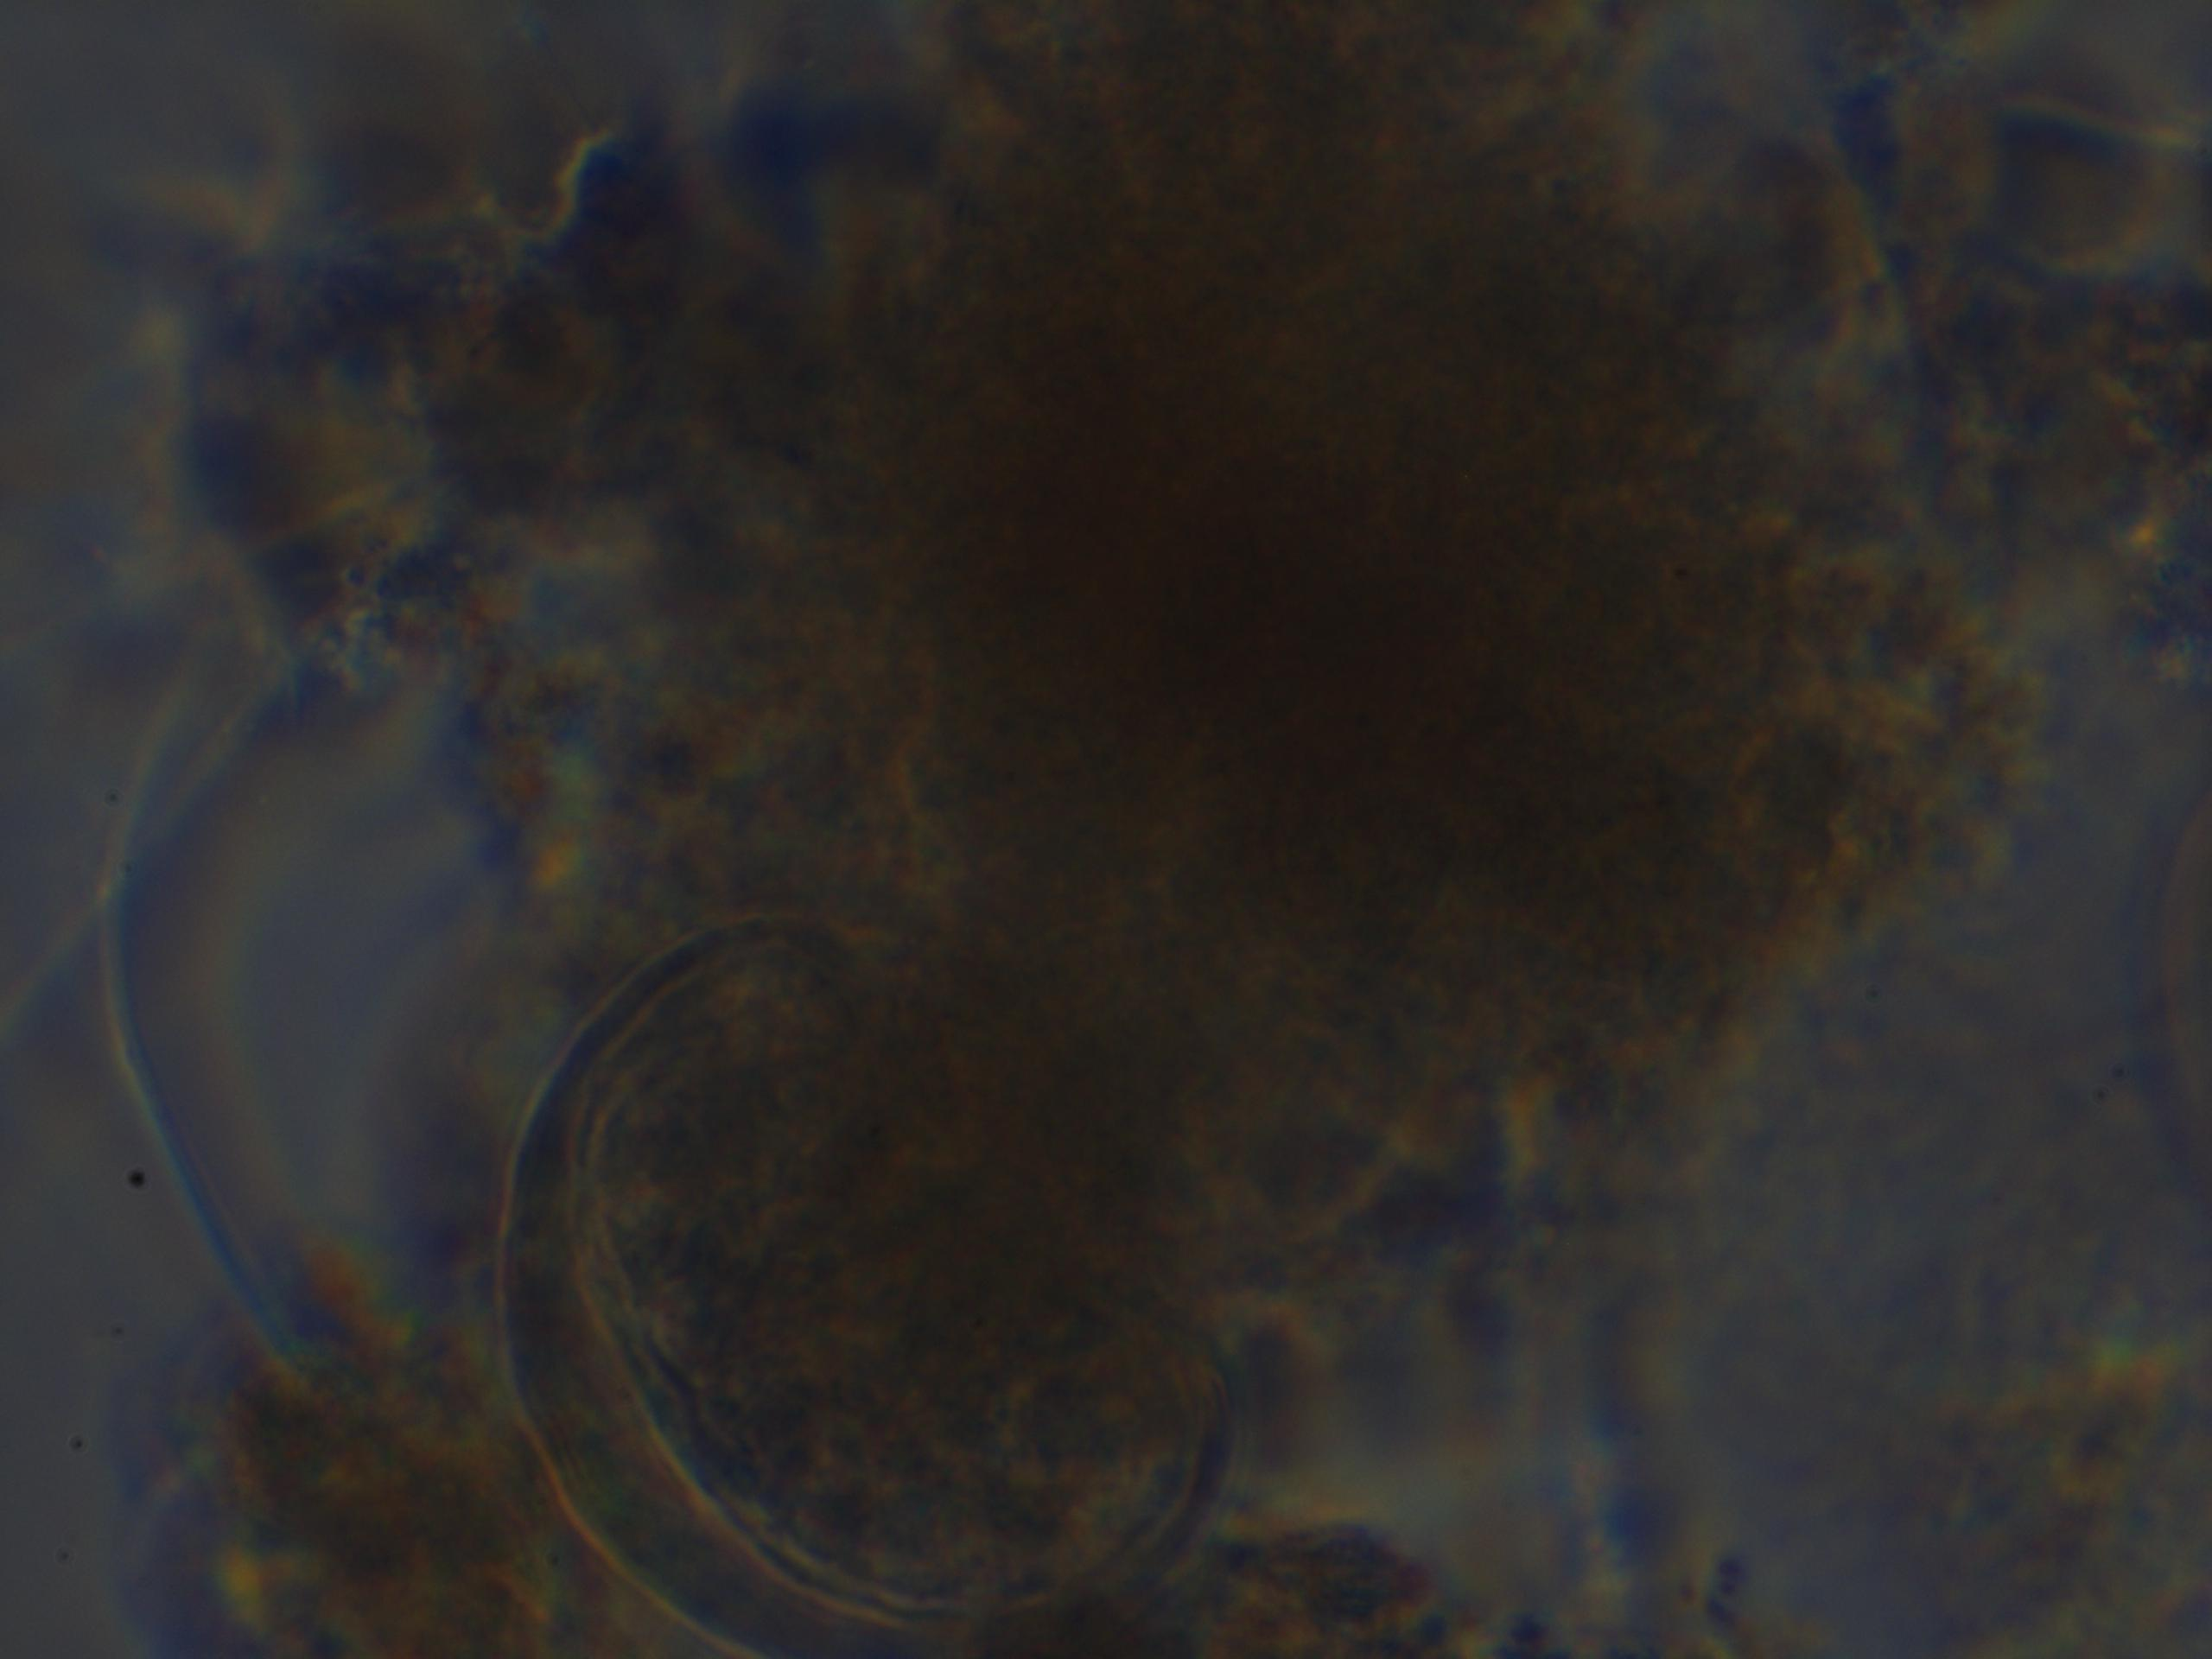filament: (0, 617, 331, 1464)
protozoa: (495, 894, 1258, 1659)
